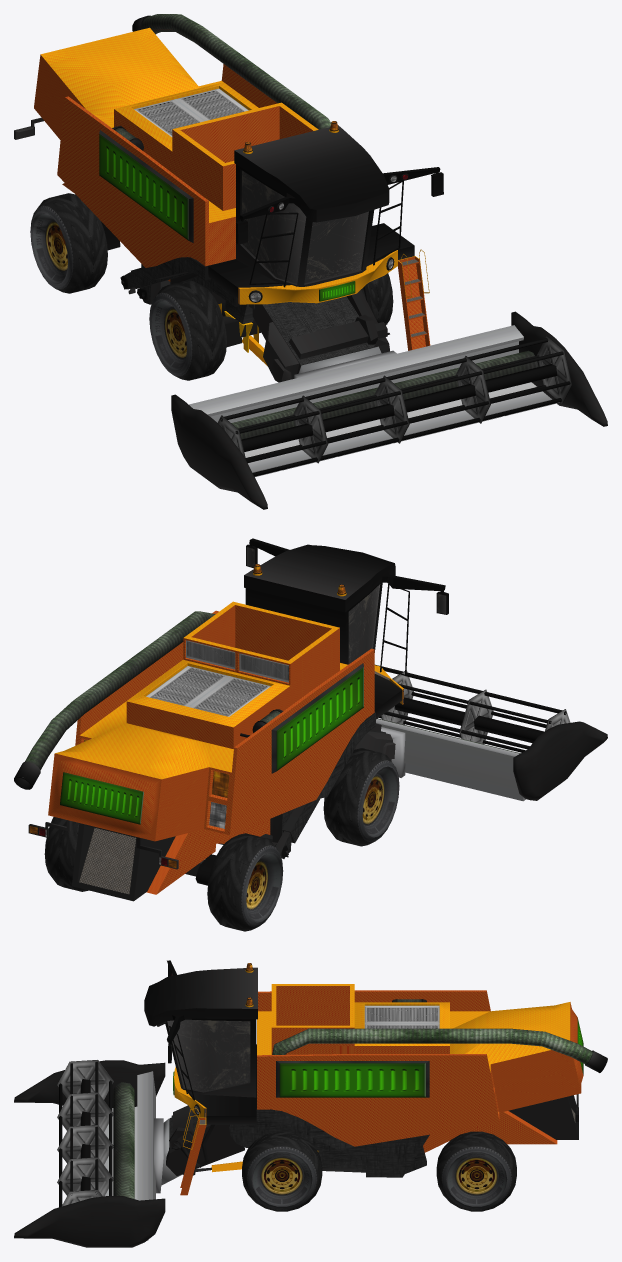
3 views of the same model, one above another, from view 1: azimuth 30°, elevation 25°; view 2: azimuth 150°, elevation 25°; view 3: azimuth 270°, elevation 25° (orthographic). The views are drawn at different scales.
Parts seen in each view (by area): view 1: Crop Harvestor, Harvesting Sledge, Harvesting Blades, FR Wheel, RR Wheel, FL Wheel; view 2: Crop Harvestor, Harvesting Sledge, Harvesting Blades, RR Wheel, FR Wheel, RL Wheel; view 3: Crop Harvestor, Harvesting Sledge, Harvesting Blades, RL Wheel, FL Wheel.
Boxes of the visible parts, box(x1,y1,x2,y2) form: Crop Harvestor: box(14, 14, 443, 382); Harvesting Sledge: box(171, 311, 607, 509); Harvesting Blades: box(217, 336, 572, 476); FR Wheel: box(149, 280, 226, 380); RR Wheel: box(30, 193, 107, 293); FL Wheel: box(361, 273, 393, 325); Crop Harvestor: box(14, 538, 448, 901); Harvesting Sledge: box(376, 718, 607, 801); Harvesting Blades: box(375, 664, 570, 752); RR Wheel: box(207, 833, 283, 931); FR Wheel: box(323, 748, 399, 846); RL Wheel: box(44, 817, 88, 891); Crop Harvestor: box(144, 960, 607, 1195); Harvesting Sledge: box(14, 1060, 181, 1247); Harvesting Blades: box(57, 1060, 113, 1207); RL Wheel: box(436, 1131, 516, 1211); FL Wheel: box(242, 1131, 322, 1211).
Bounding box in the file's own units: 6.63 × 4.33 × 11.82.
4 materials, 4 textured.
